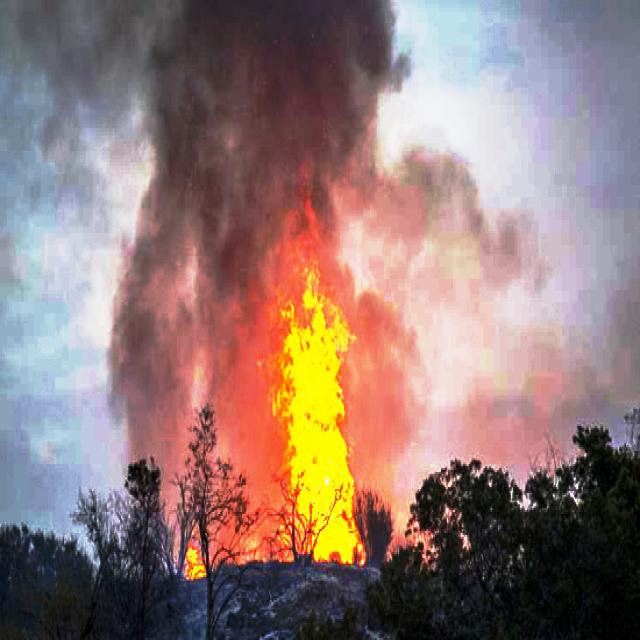api: (265, 281, 358, 568), (179, 539, 202, 579)
asap: (23, 1, 500, 276), (103, 284, 265, 511), (359, 290, 442, 521)
